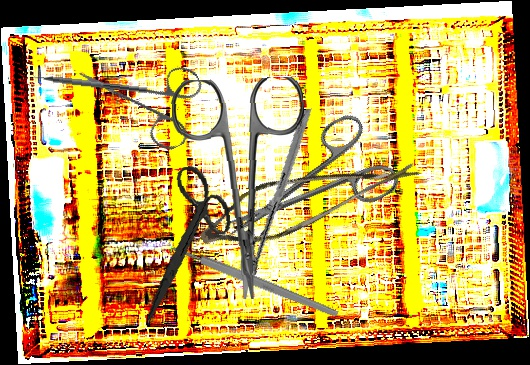Chopper: (24, 66, 149, 94)
Iris Scissors: (205, 106, 403, 268), (170, 76, 311, 302), (74, 26, 222, 174), (125, 161, 244, 320)
Micro Scissor: (192, 112, 424, 282)
Needle Holder: (218, 108, 341, 277)
Scalpel Handle: (170, 243, 340, 319)
